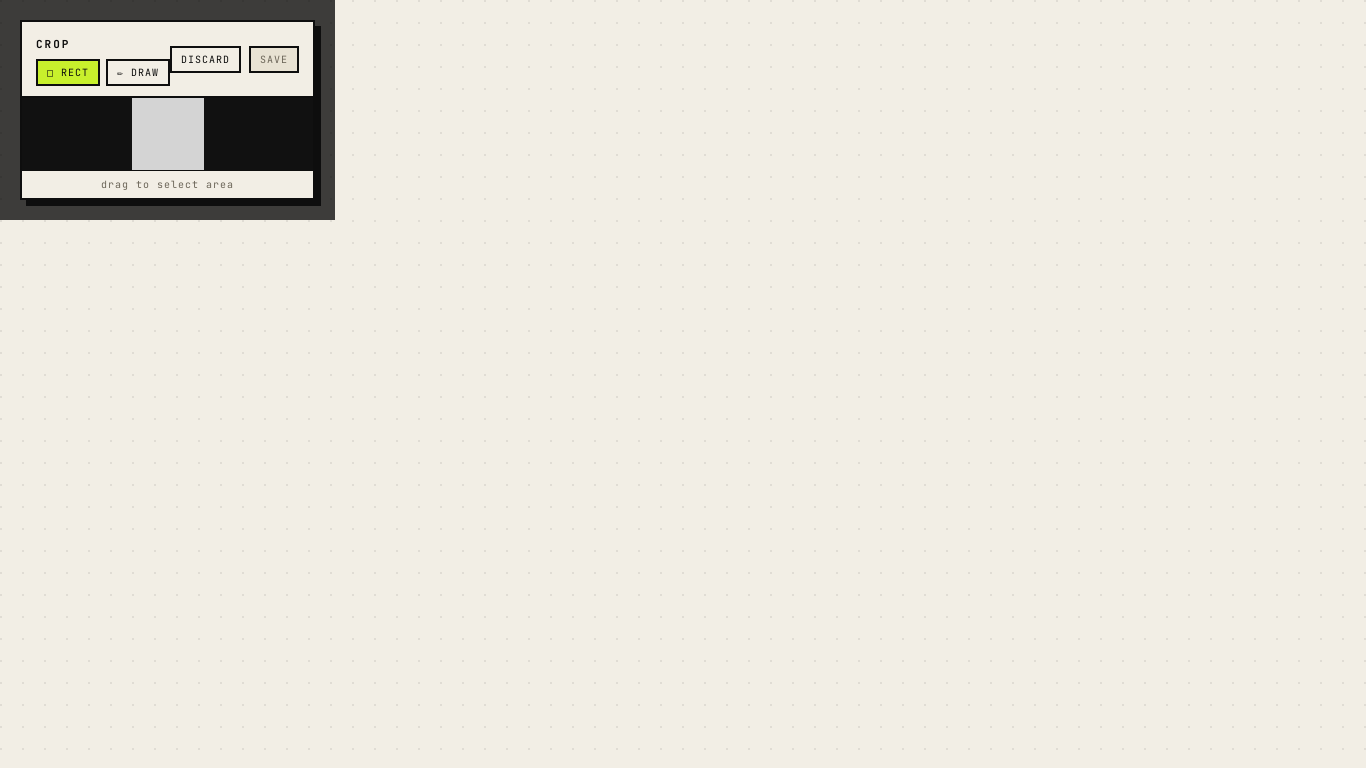
Test case: CropModal › shows draw mode hint text after switching
Click the button "✏ DRAW" at x=138, y=72, box [106, 59, 170, 86]
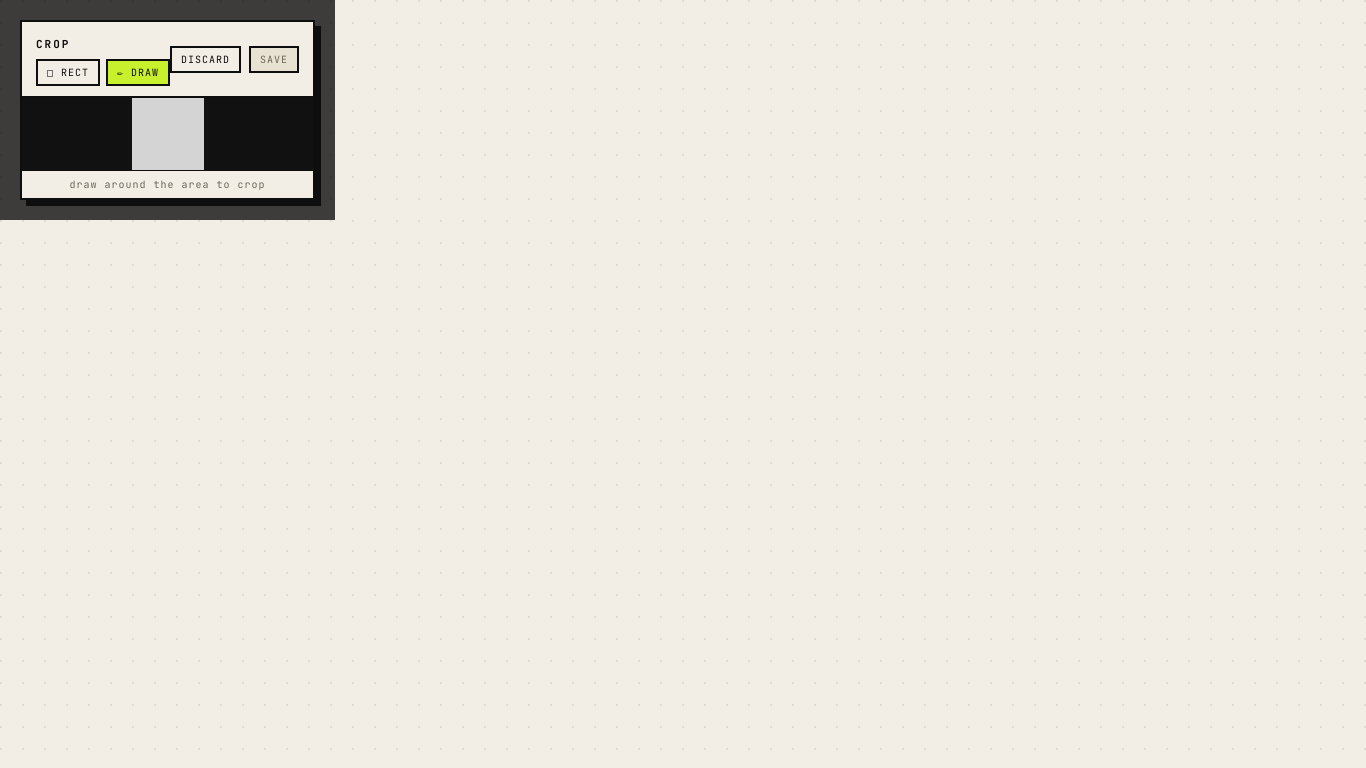
Expected: the text "draw around the area to crop" is shown, [22, 170, 313, 198]
